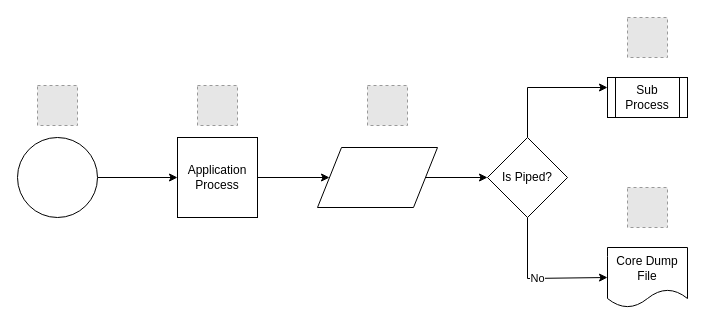
Some shapes in this 705 by 325 pixel diagram are drawn without their labels. Grey dashed boxes stand in for pictures. Here are the shapes that lost their labels. From the top down, the box of each, then its label:
(16, 136, 98, 218): Signal e.g. SegFault
(316, 146, 438, 208): Generate ELF File
